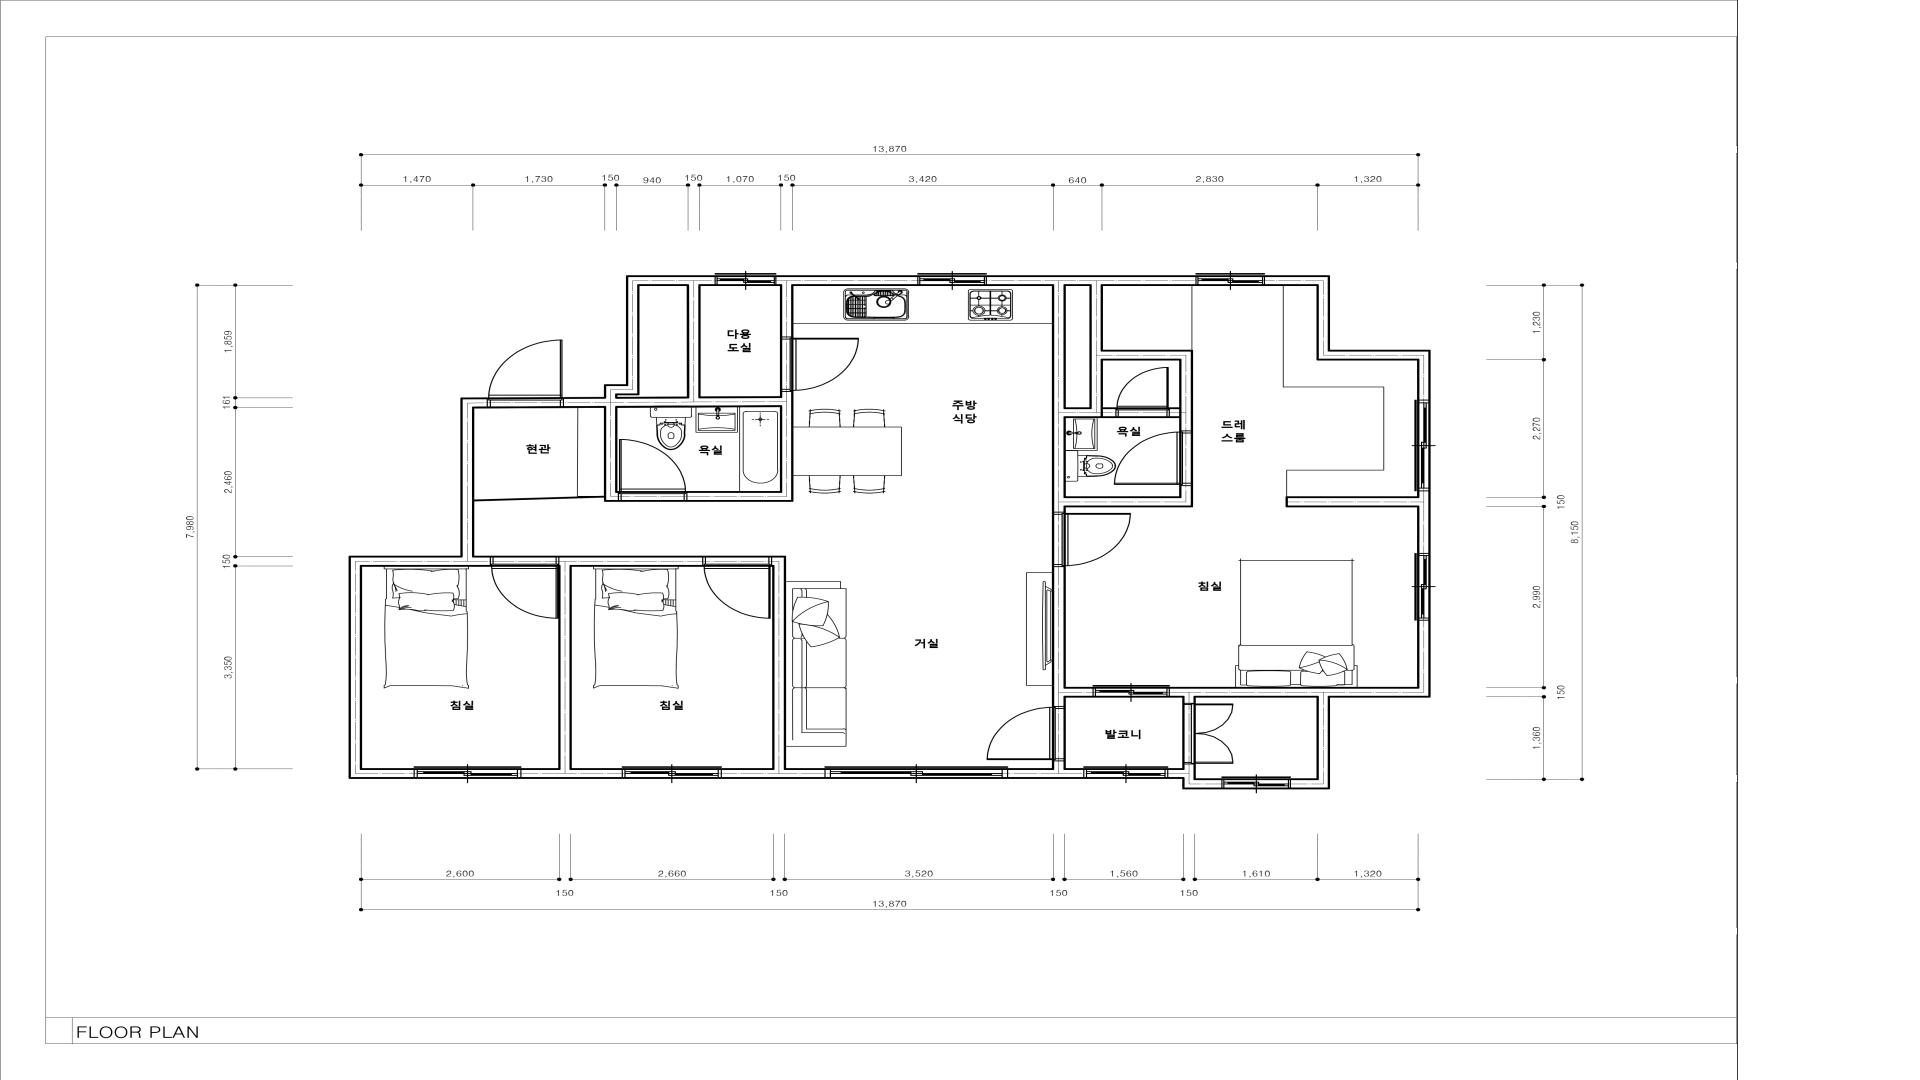door: (488, 339, 562, 400), (1113, 431, 1182, 485), (790, 338, 858, 392), (620, 439, 686, 495), (491, 564, 558, 618), (703, 564, 770, 618), (986, 707, 1055, 760), (1063, 513, 1131, 566), (1191, 703, 1233, 764), (1117, 367, 1168, 410)
wall: (348, 397, 491, 779), (1170, 620, 1431, 790), (1265, 276, 1431, 400), (563, 276, 715, 409), (558, 555, 572, 767), (771, 555, 786, 767), (1052, 286, 1065, 513), (986, 276, 1196, 286), (617, 396, 779, 409), (1052, 566, 1065, 707), (1089, 286, 1102, 418), (779, 392, 794, 502), (1286, 496, 1418, 508), (572, 555, 703, 567), (777, 276, 918, 286), (687, 286, 700, 397), (1168, 764, 1221, 790), (1009, 761, 1084, 779), (604, 409, 618, 502), (1065, 496, 1179, 508), (721, 767, 824, 779), (521, 767, 622, 779), (1179, 349, 1193, 431), (686, 491, 781, 502), (1418, 491, 1431, 553), (1102, 349, 1179, 360), (779, 286, 794, 338), (1179, 485, 1193, 508), (1065, 687, 1093, 698), (1065, 407, 1089, 418), (1102, 407, 1117, 418), (1168, 407, 1179, 418)
window: (824, 766, 1009, 779), (1414, 400, 1431, 492), (414, 766, 521, 779), (622, 766, 721, 779), (1083, 766, 1168, 779), (1415, 553, 1431, 621), (1093, 684, 1170, 698), (1221, 777, 1291, 790), (1196, 273, 1265, 286), (918, 273, 986, 286), (715, 273, 777, 286)
